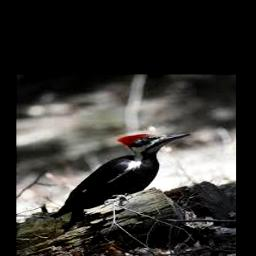Woodpecker: (51, 131, 190, 229)
